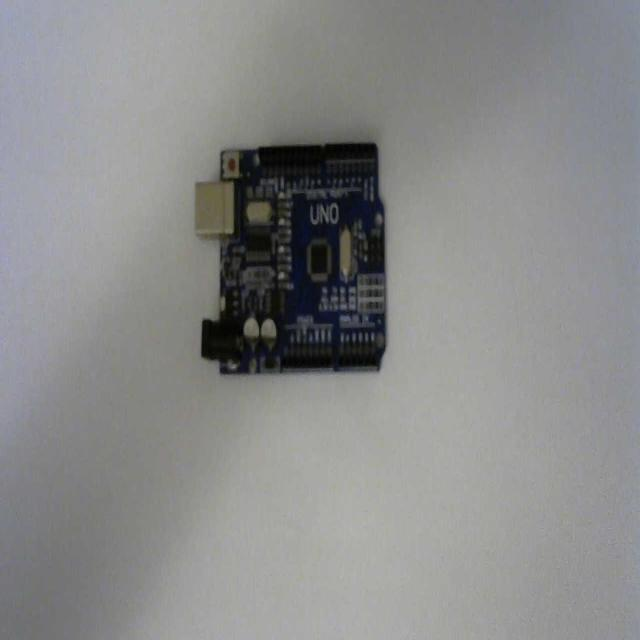arduino: (194, 130, 398, 385)
